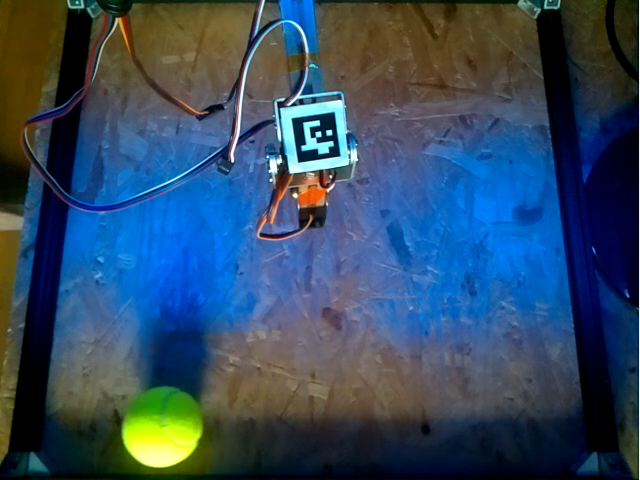tennis_ball: (121, 385, 204, 468)
